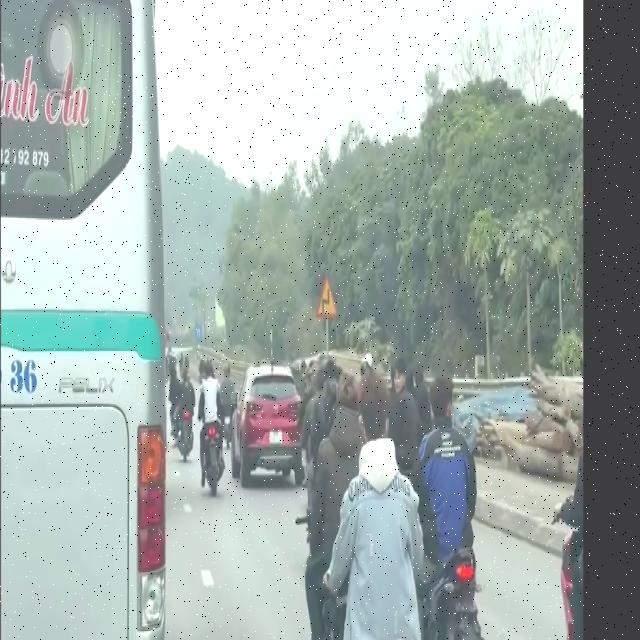no_helmet: (430, 376, 451, 441)
